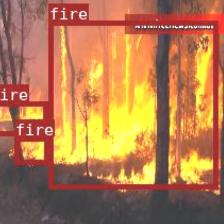fire: (47, 20, 218, 188), (0, 100, 47, 136), (15, 135, 48, 164)
